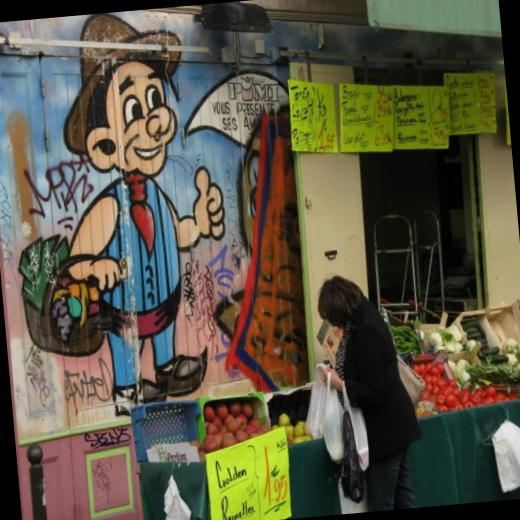Apple: (186, 399, 274, 460), (270, 411, 314, 445), (226, 417, 240, 434)
